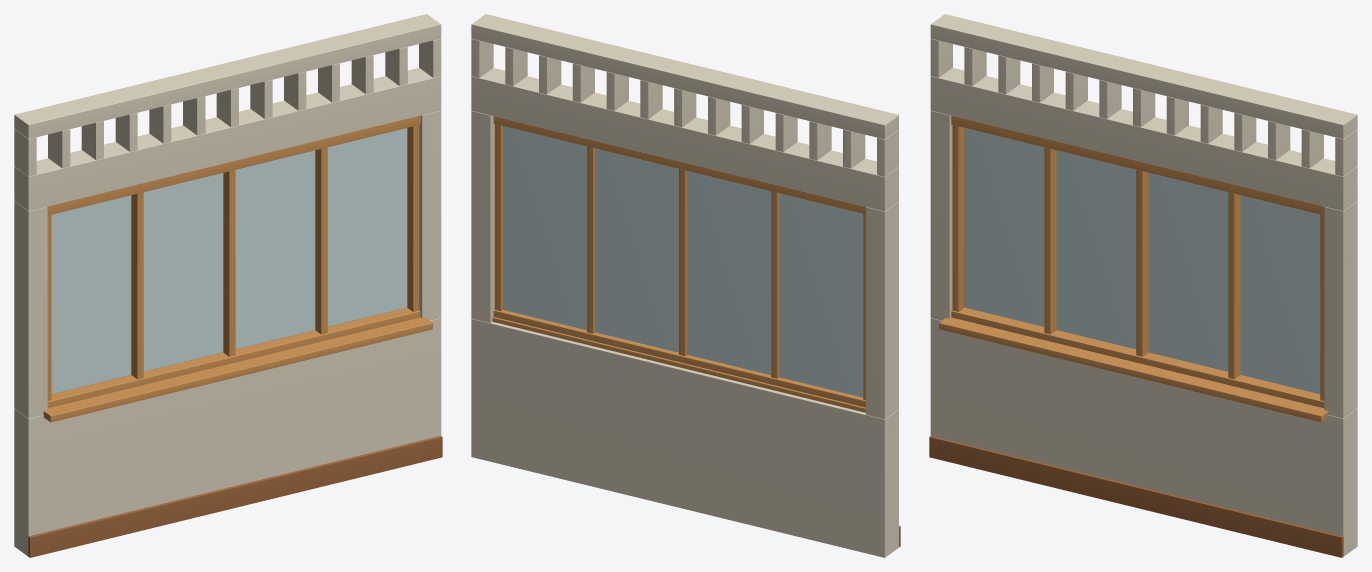
File: WindowWall.fbx
3 views of the same model, side by side, from view 1: azimuth 30°, elevation 25°; view 2: azimuth 150°, elevation 25°; view 3: azimuth 330°, elevation 25° (orthographic).
Visible parts, largest first — view 1: Warm plaster, Daylight glass, Honey beech, Amber teak; view 2: Warm plaster, Daylight glass, Honey beech; view 3: Warm plaster, Daylight glass, Honey beech, Amber teak.
Part boxes in pixels (left/top/right/bottom): Warm plaster: left=14, top=14, right=441, bottom=556; Daylight glass: left=51, top=128, right=407, bottom=394; Honey beech: left=43, top=115, right=432, bottom=422; Amber teak: left=28, top=436, right=442, bottom=557; Warm plaster: left=471, top=14, right=898, bottom=557; Daylight glass: left=503, top=126, right=863, bottom=397; Honey beech: left=492, top=116, right=865, bottom=412; Warm plaster: left=930, top=14, right=1357, bottom=556; Daylight glass: left=964, top=128, right=1320, bottom=394; Honey beech: left=939, top=115, right=1328, bottom=422; Amber teak: left=929, top=436, right=1343, bottom=557.
Bounding box in the file's own units: 300 × 300 × 26.8.
